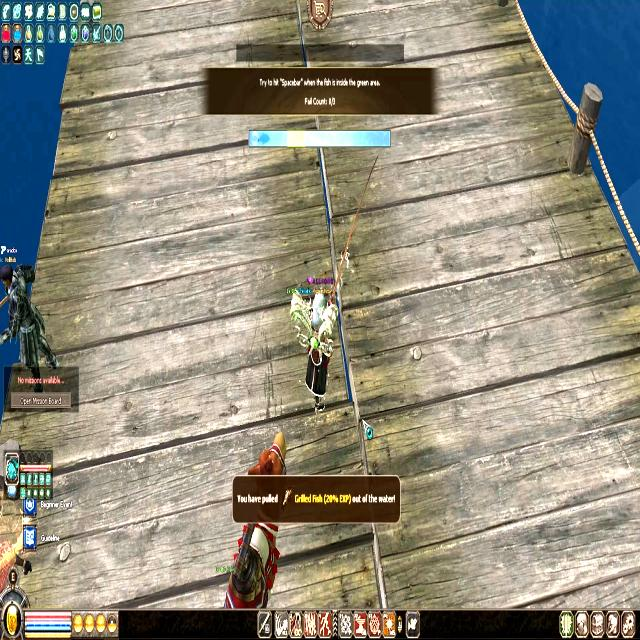fishes: (257, 131, 270, 145)
